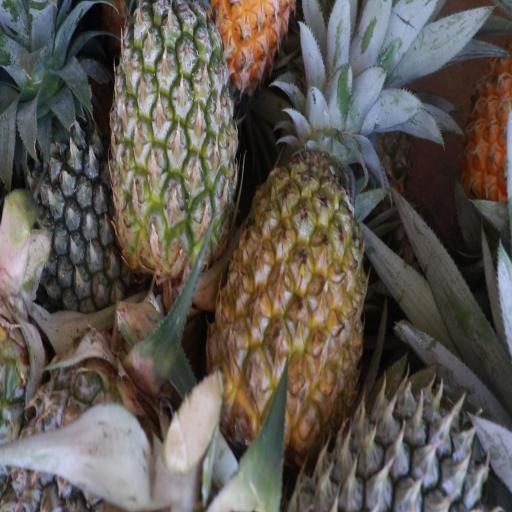------------------------------: (111, 0, 235, 284)
Pineapple - v8 v1: (211, 15, 365, 462)
